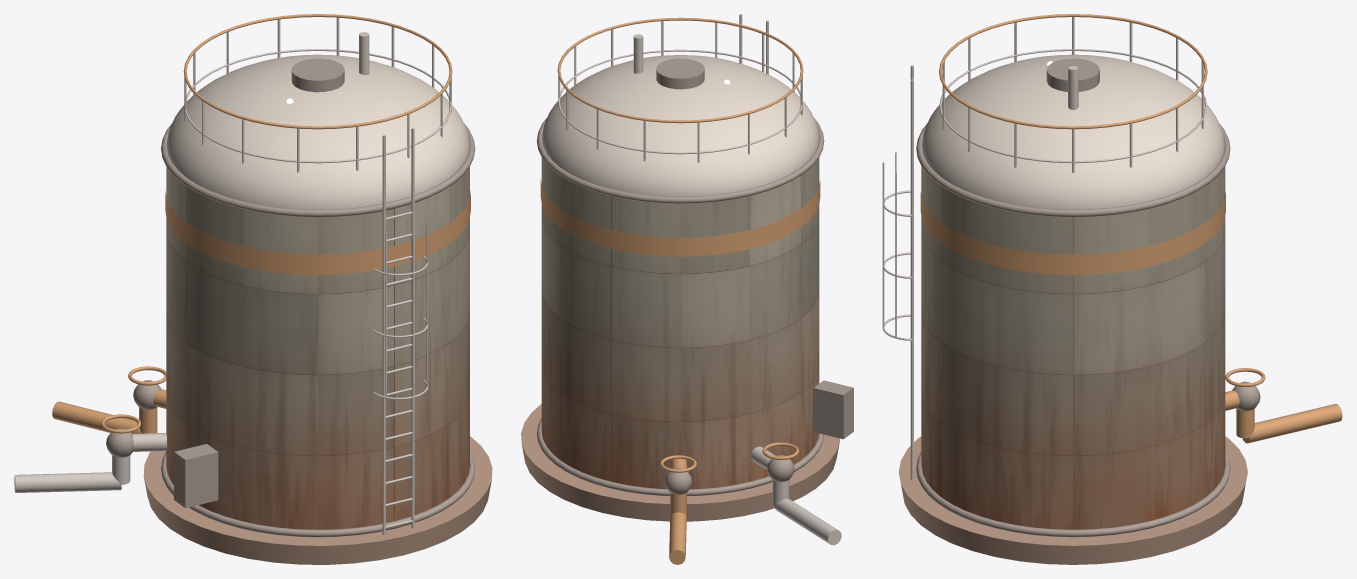
The model's file is E10_standing_tank_6m.glb.
3 views of the same model, side by side, from view 1: azimuth 30°, elevation 25°; view 2: azimuth 150°, elevation 25°; view 3: azimuth 270°, elevation 25° (orthographic). The views are drawn at different scales.
Parts seen in each view (by area): view 1: tank_shell, tank_roof, foundation_ring, colour_band, stiffener_ring (×2), outlet_pipe (×3), ladder_rail (×2), gauge_cabinet, top_railing, roof_manhole, top_railing_mid, valve; view 2: tank_shell, tank_roof, foundation_ring, colour_band, stiffener_ring (×2), gauge_cabinet, outlet_pipe (×2), top_railing, roof_manhole, top_railing_mid, valve (×2), vent_pipe; view 3: tank_shell, tank_roof, foundation_ring, colour_band, stiffener_ring (×2), top_railing, outlet_pipe, ladder_rail, top_railing_mid, roof_manhole.
Boxes of the visible parts, x1,y1,x2,y2 form: tank_shell: (166, 167, 469, 529); tank_roof: (166, 54, 469, 209); foundation_ring: (143, 436, 492, 564); colour_band: (165, 191, 470, 275); stiffener_ring (×2): (161, 123, 475, 537); outlet_pipe (×3): (14, 401, 167, 492); ladder_rail (×2): (382, 127, 414, 535); gauge_cabinet: (174, 444, 218, 508); top_railing: (183, 14, 452, 129); roof_manhole: (291, 58, 344, 92); top_railing_mid: (185, 49, 451, 163); valve: (106, 428, 133, 457); tank_shell: (541, 157, 819, 489); tank_roof: (542, 55, 818, 196); foundation_ring: (521, 404, 839, 521); colour_band: (540, 179, 820, 256); stiffener_ring (×2): (536, 118, 824, 496); gauge_cabinet: (813, 380, 853, 439); outlet_pipe (×2): (669, 498, 841, 564); top_railing: (557, 17, 803, 123); roof_manhole: (656, 58, 704, 89); top_railing_mid: (558, 49, 802, 154); valve (×2): (664, 455, 794, 494); vent_pipe: (633, 34, 643, 73); tank_shell: (921, 166, 1225, 529); tank_roof: (922, 54, 1224, 209); foundation_ring: (898, 436, 1247, 564); colour_band: (920, 192, 1225, 275); stiffener_ring (×2): (916, 123, 1230, 537); top_railing: (939, 14, 1207, 129); outlet_pipe: (1242, 404, 1342, 443); ladder_rail: (910, 79, 913, 479); top_railing_mid: (939, 49, 1207, 163); roof_manhole: (1046, 58, 1099, 91).
Size of the model in its own units: 5.94 by 6.5 by 6.06.
Materials: 7 (1 with a texture image).
